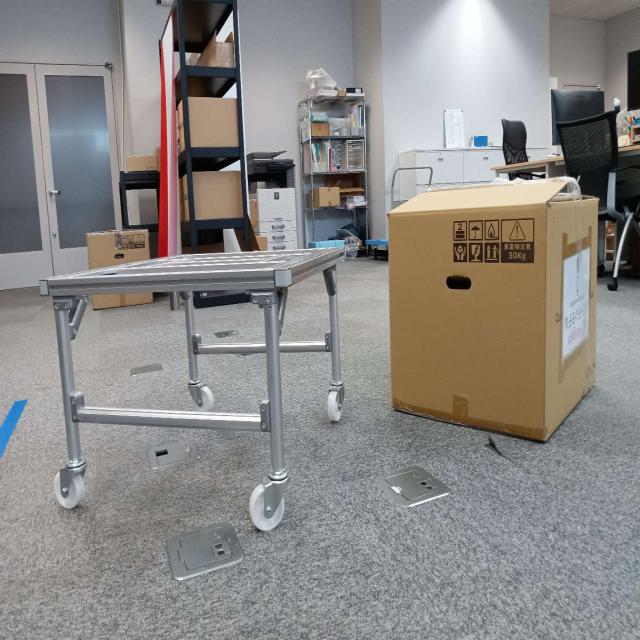box: (388, 189, 599, 441)
door: (269, 248, 338, 329)
side: (54, 277, 277, 432)
